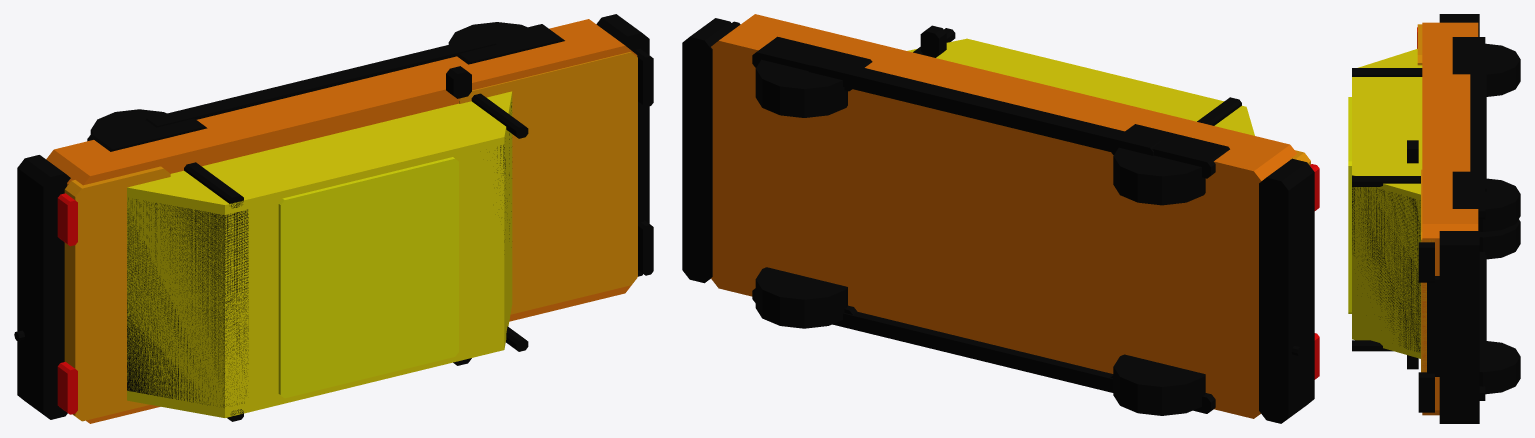
File: carsedan-canonical.obj
3 renders of one model, left to right at view 1: azimuth 30°, elevation 25°; view 2: azimuth 150°, elevation 25°; view 3: azimuth 270°, elevation 25°, orthographic. The views are drawn at different scales.
Parts seen in each view (by area): view 1: Cabin, RoofPanel, Hood, LowerBody, Boot, BumperRear, RearScreen, Sill_1, Arch_R_1, Arch_F_1, BumperFront, Taillamp_-1 (+9 smaller); view 2: LowerBody, BumperRear, BumperFront, Sill_1, Cabin, Sill_-1, Wheel_R_-1_Tyre, Wheel_F_-1_Tyre, Wheel_R_1_Tyre, Wheel_F_1_Tyre, Arch_R_1, Arch_F_1 (+1 smaller); view 3: Cabin, LowerBody, BumperFront, Windscreen, Sill_1, Wheel_F_-1_Tyre, Wheel_F_1_Tyre, Wheel_R_1_Tyre, Grille, Arch_F_1, Wheel_R_-1_Tyre, Arch_R_1 (+11 smaller).
Part boxes in pixels (x1,y1,x2,y2): Cabin: [127, 91, 512, 417]; RoofPanel: [278, 157, 458, 398]; Hood: [459, 52, 637, 314]; LowerBody: [46, 19, 637, 423]; Boot: [64, 166, 170, 421]; BumperRear: [17, 155, 70, 419]; RearScreen: [127, 198, 248, 407]; Sill_1: [145, 36, 496, 127]; Arch_R_1: [87, 118, 207, 151]; Arch_F_1: [457, 24, 564, 64]; BumperFront: [596, 14, 649, 276]; Taillamp_-1: [57, 362, 77, 414]; LowerBody: [711, 14, 1297, 418]; BumperRear: [1259, 158, 1314, 423]; BumperFront: [682, 18, 735, 283]; Sill_1: [808, 57, 1161, 155]; Cabin: [907, 38, 1254, 135]; Sill_-1: [832, 312, 1113, 392]; Wheel_R_-1_Tyre: [1113, 354, 1205, 415]; Wheel_F_-1_Tyre: [755, 267, 847, 328]; Wheel_R_1_Tyre: [1113, 147, 1205, 205]; Wheel_F_1_Tyre: [755, 59, 847, 117]; Arch_R_1: [1111, 124, 1229, 178]; Arch_F_1: [752, 36, 872, 91]; Cabin: [1352, 49, 1422, 358]; LowerBody: [1422, 22, 1478, 415]; BumperFront: [1439, 231, 1479, 423]; Windscreen: [1352, 187, 1420, 352]; Sill_1: [1470, 57, 1486, 191]; Wheel_F_-1_Tyre: [1479, 340, 1520, 394]; Wheel_F_1_Tyre: [1478, 178, 1520, 231]; Wheel_R_1_Tyre: [1485, 43, 1520, 96]; Grille: [1427, 276, 1439, 376]; Arch_F_1: [1452, 171, 1485, 219]; Wheel_R_-1_Tyre: [1479, 219, 1520, 259]; Arch_R_1: [1452, 37, 1485, 74].
Size of the model in its own units: 466 by 212 by 147.
